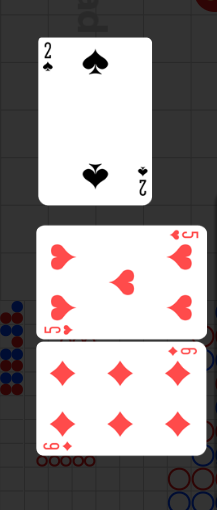2S: (42, 41, 55, 74)
5H: (168, 228, 200, 241)
6D: (42, 440, 74, 452)
